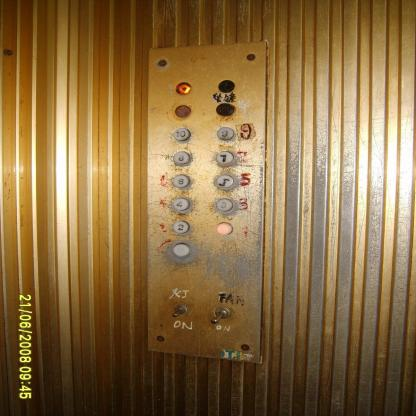10: (173, 128, 190, 141)
2: (171, 219, 190, 234)
4: (172, 196, 190, 211)
5: (217, 174, 233, 188)
6: (172, 174, 190, 188)
7: (216, 150, 234, 164)
8: (173, 151, 190, 165)
9: (216, 127, 234, 140)
G: (215, 197, 233, 212)
empty: (172, 242, 192, 257), (217, 78, 236, 93), (172, 104, 192, 118), (215, 221, 233, 236)
indicator: (213, 102, 236, 117), (175, 82, 191, 95)
switch: (209, 304, 232, 324), (168, 300, 191, 318)
